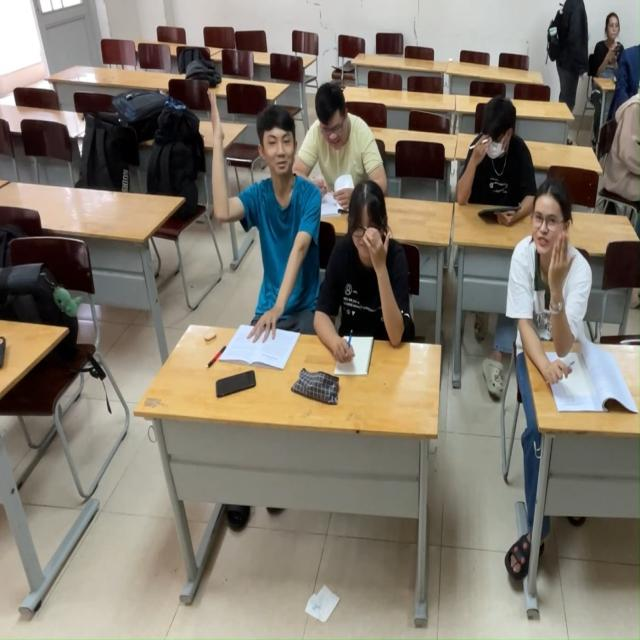raise_hand: (504, 175, 638, 422), (201, 91, 311, 377), (323, 189, 416, 387)
